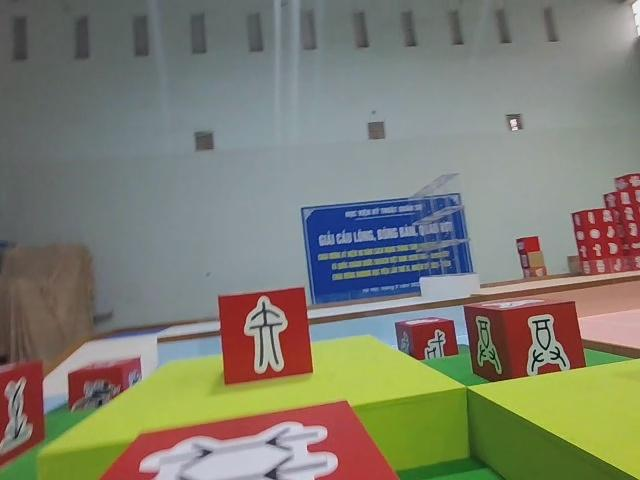R1: (67, 353, 143, 418)
R2 Fake: (217, 285, 315, 387)
R2 Real: (96, 397, 402, 480), (461, 294, 588, 383), (0, 356, 46, 468), (392, 313, 459, 365)
